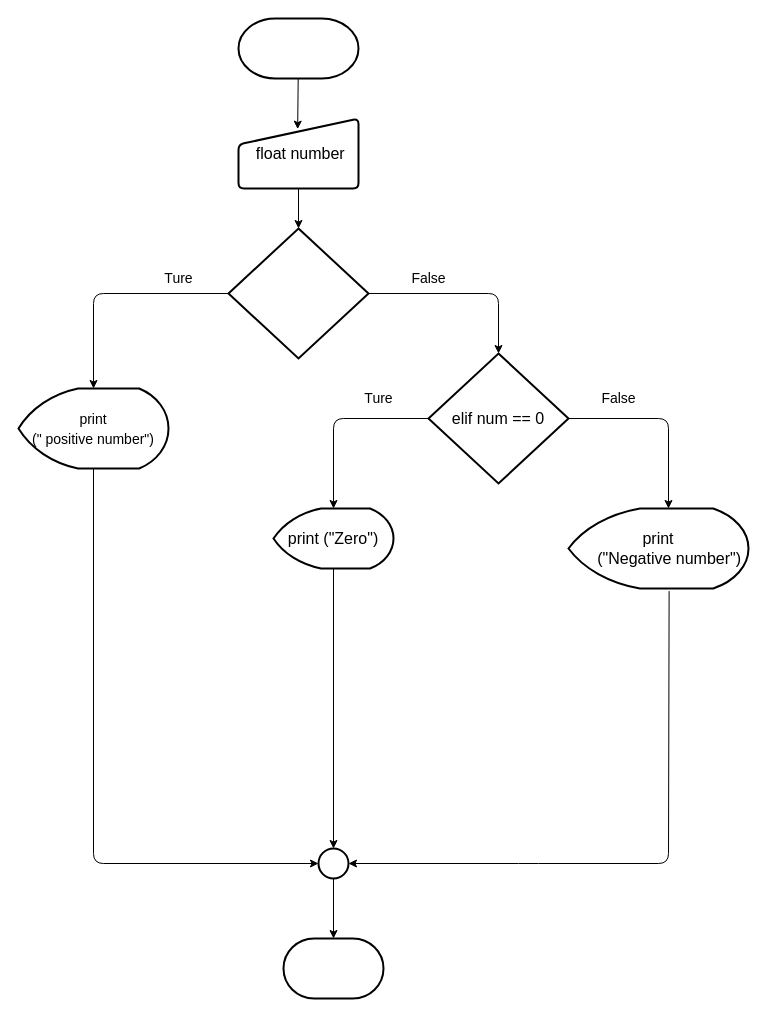
The diagram is 766 pixels wide and 1016 high, and some of its shapes have lost their labels. Here are the shapes that lost their labels. From the top down, the centre of each, then its label:
[298,48]: start
[298,293]: if num > 0
[333,968]: end
